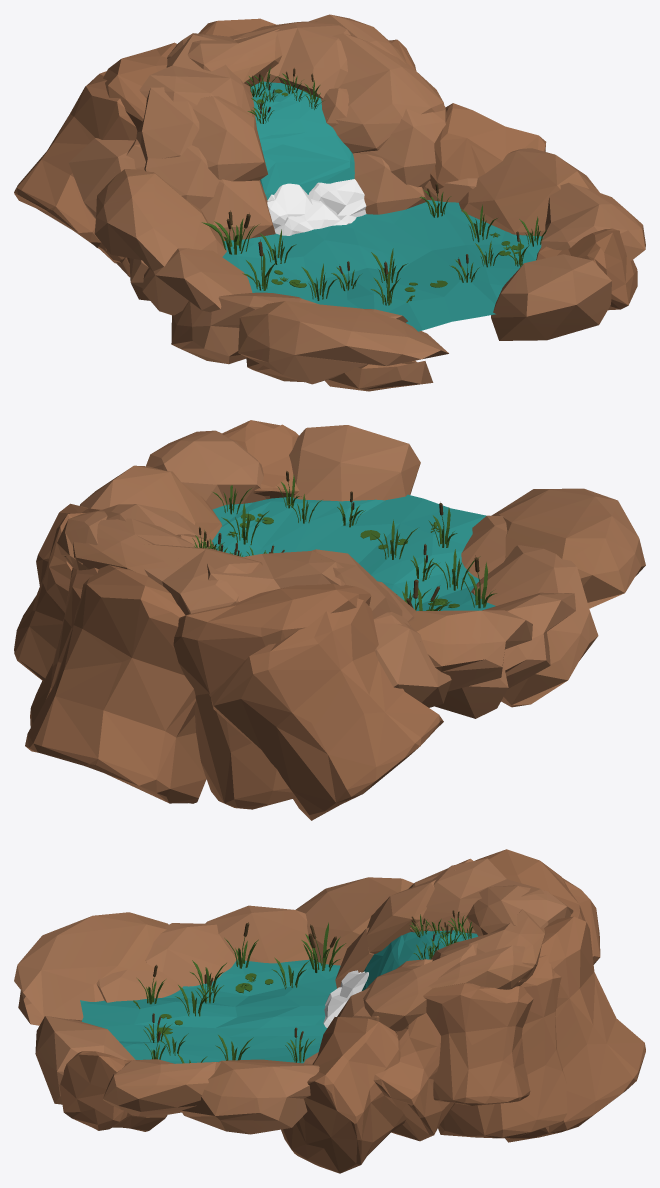
3 views of the same model, one above another, from view 1: azimuth 30°, elevation 25°; view 2: azimuth 150°, elevation 25°; view 3: azimuth 270°, elevation 25° (orthographic). The views are drawn at different scales.
Visible parts, largest first — view 1: Waterfall_Foam_Icosphere.087; view 2: Waterfall_Foam_Icosphere.087; view 3: Waterfall_Foam_Icosphere.087.
Part boxes in pixels (box(x1,y1,x2,y2)): Waterfall_Foam_Icosphere.087: box(14, 14, 645, 391); Waterfall_Foam_Icosphere.087: box(14, 420, 645, 820); Waterfall_Foam_Icosphere.087: box(14, 849, 645, 1173).
Bounding box in the file's own units: 23.73 × 11.8 × 30.65.
1 material, 1 textured.
